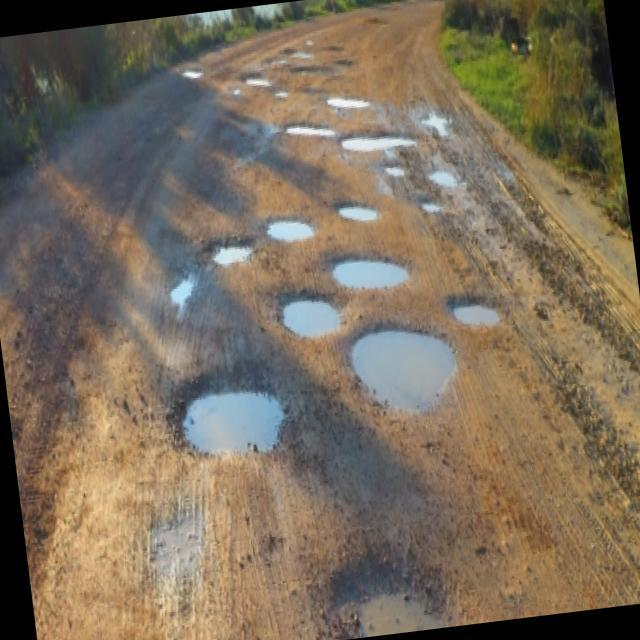Pothole: (336, 308, 476, 422), (300, 549, 463, 640), (159, 364, 296, 472), (263, 276, 366, 364), (309, 230, 421, 305), (137, 494, 230, 575), (192, 206, 272, 286), (436, 266, 523, 338), (250, 173, 322, 252), (163, 246, 215, 341), (268, 109, 352, 162), (428, 154, 494, 209), (332, 194, 395, 250), (312, 85, 386, 132), (338, 121, 420, 157), (409, 192, 475, 234), (414, 103, 464, 152), (168, 54, 214, 86), (389, 162, 418, 190), (245, 72, 277, 96), (228, 86, 248, 108), (270, 97, 291, 111)
